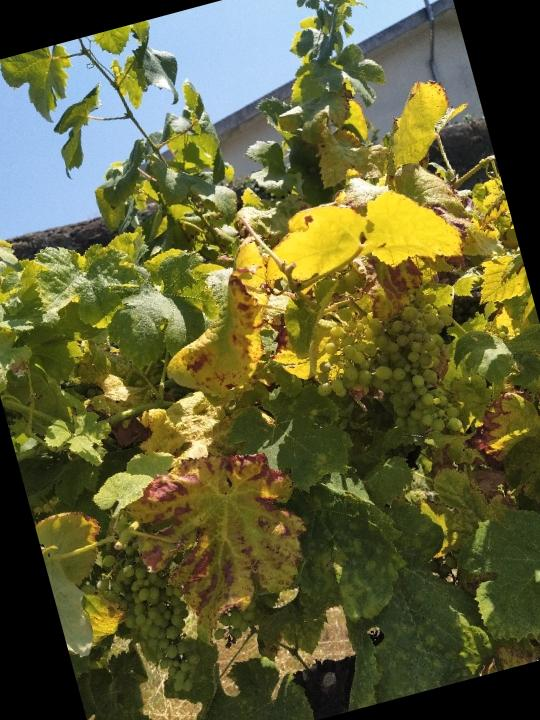grape: (298, 287, 469, 466), (85, 532, 211, 710)
